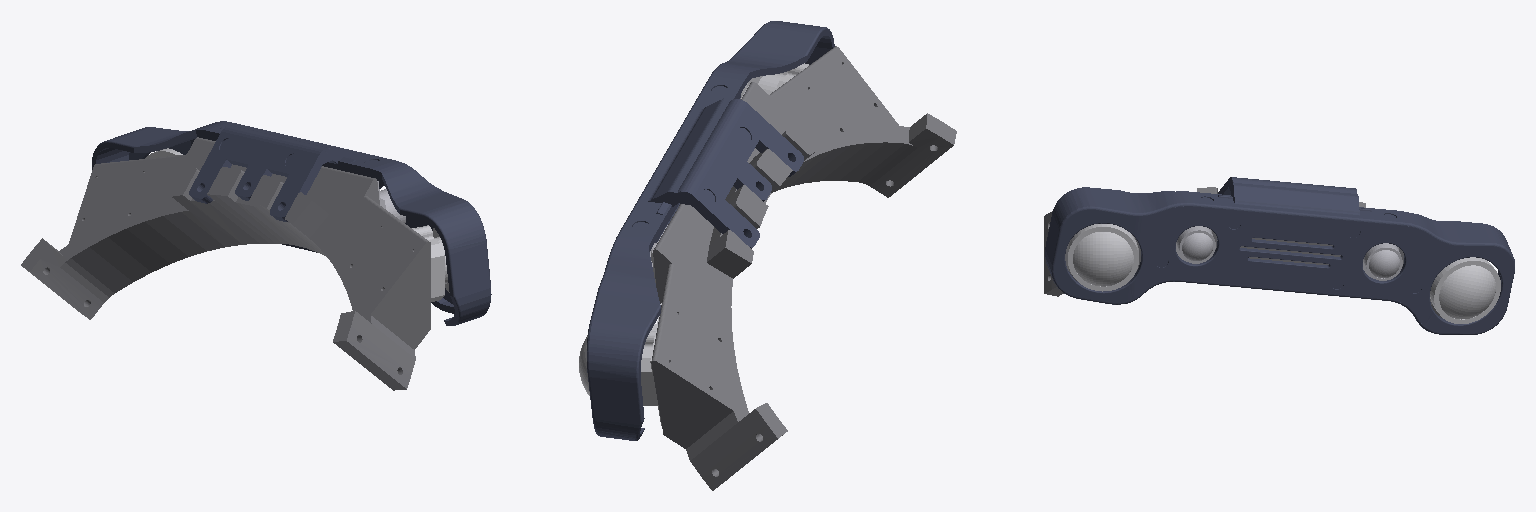
robot.urdf — head_ring_3_0:
<?xml version='1.0' encoding='utf-8'?>
<robot name="head_ring_3_0">
  <link name="left_camera_frame">
    <visual name="infrared_1">
      <origin xyz="0 0 0" rpy="0 0 0" />
      <geometry>
        <mesh filename="package://head_ring_description/meshes/infrared_1.stl" scale="1 1 1" />
      </geometry>
      <material name="infrared_1_material">
        <color rgba="0.72 0.72 0.75 1" />
      </material>
    </visual>
    <collision name="infrared_1">
      <geometry>
        <mesh filename="package://head_ring_description/meshes/infrared_1.stl" scale="1 1 1" />
      </geometry>
    </collision>
    <visual name="fisheye_left">
      <origin xyz="0 0 0" rpy="0 0 0" />
      <geometry>
        <mesh filename="package://head_ring_description/meshes/fisheye_left.stl" scale="1 1 1" />
      </geometry>
      <material name="fisheye_left_material">
        <color rgba="0.78 0.78 0.80 1" />
      </material>
    </visual>
    <collision name="fisheye_left">
      <geometry>
        <mesh filename="package://head_ring_description/meshes/fisheye_left.stl" scale="1 1 1" />
      </geometry>
    </collision>
    <visual name="head_ring">
      <origin xyz="0 0 0" rpy="0 0 0" />
      <geometry>
        <mesh filename="package://head_ring_description/meshes/head_ring.stl" scale="1 1 1" />
      </geometry>
      <material name="head_ring_material">
        <color rgba="0.50 0.50 0.52 1" />
      </material>
    </visual>
    <collision name="head_ring">
      <geometry>
        <mesh filename="package://head_ring_description/meshes/head_ring.stl" scale="1 1 1" />
      </geometry>
    </collision>
    <visual name="infrared_2">
      <origin xyz="0 0 0" rpy="0 0 0" />
      <geometry>
        <mesh filename="package://head_ring_description/meshes/infrared_2.stl" scale="1 1 1" />
      </geometry>
      <material name="infrared_2_material">
        <color rgba="0.72 0.72 0.75 1" />
      </material>
    </visual>
    <collision name="infrared_2">
      <geometry>
        <mesh filename="package://head_ring_description/meshes/infrared_2.stl" scale="1 1 1" />
      </geometry>
    </collision>
    <visual name="camera_housing">
      <origin xyz="0 0 0" rpy="0 0 0" />
      <geometry>
        <mesh filename="package://head_ring_description/meshes/camera_housing.stl" scale="1 1 1" />
      </geometry>
      <material name="camera_housing_material">
        <color rgba="0.32 0.34 0.42 1" />
      </material>
    </visual>
    <collision name="camera_housing">
      <geometry>
        <mesh filename="package://head_ring_description/meshes/camera_housing.stl" scale="1 1 1" />
      </geometry>
    </collision>
    <visual name="fisheye_right">
      <origin xyz="0 0 0" rpy="0 0 0" />
      <geometry>
        <mesh filename="package://head_ring_description/meshes/fisheye_right.stl" scale="1 1 1" />
      </geometry>
      <material name="fisheye_right_material">
        <color rgba="0.78 0.78 0.80 1" />
      </material>
    </visual>
    <collision name="fisheye_right">
      <geometry>
        <mesh filename="package://head_ring_description/meshes/fisheye_right.stl" scale="1 1 1" />
      </geometry>
    </collision>
  </link>
  <link name="housing_center_frame" />
  <joint name="left_camera_to_housing_center" type="fixed">
    <parent link="left_camera_frame" />
    <child link="housing_center_frame" />
    <origin xyz="0.007965527407 0.069963148019 -0.007783385750" rpy="0 0 0" />
  </joint>
</robot>

--- Facts derived from the render (not from the file) ---
Views: 3 orthographic renders of the robot side by side, from view 1: azimuth 30°, elevation 25°; view 2: azimuth 150°, elevation 25°; view 3: azimuth 270°, elevation 25°.
Model head_ring_3_0 with 2 links and 1 joints (1 fixed), rooted at left_camera_frame, posed every joint at zero.
Links seen in each view (by area): view 1: left_camera_frame; view 2: left_camera_frame; view 3: left_camera_frame.
Link boxes in pixels (left/top/right/bottom): left_camera_frame: left=21, top=121, right=491, bottom=390; left_camera_frame: left=579, top=21, right=956, bottom=490; left_camera_frame: left=1044, top=177, right=1514, bottom=334.
Size in the robot's own frame: 0.0907 by 0.1778 by 0.0831 metres.
6 mesh visuals loaded from 6 distinct referenced files (6 binary STL).
